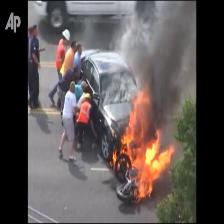fire: (121, 84, 175, 200)
